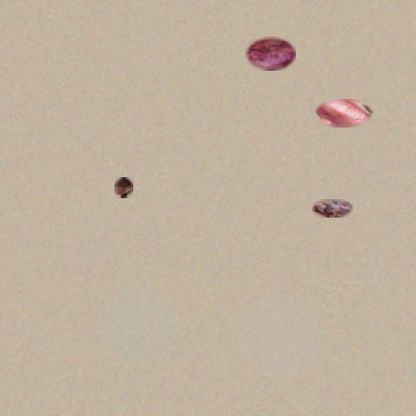damaged: (245, 37, 296, 71)
healthy: (314, 99, 373, 128)
rotten: (312, 199, 353, 218)
sprouted: (115, 177, 133, 198)
